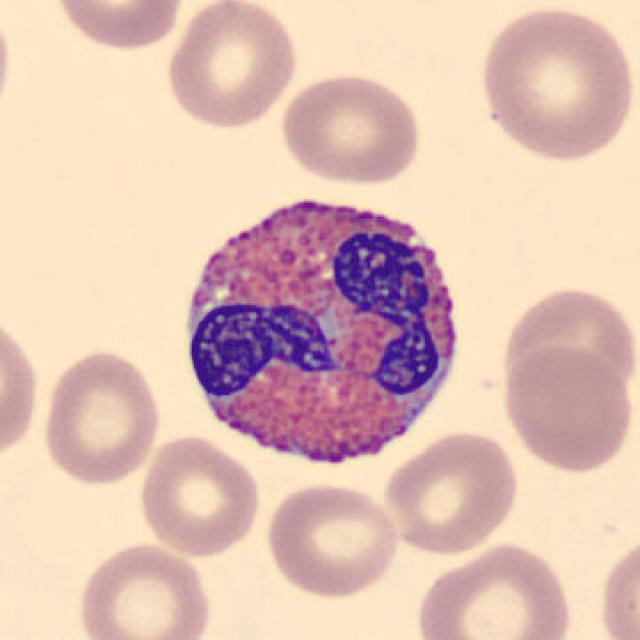Eosinophil: (171, 171, 473, 487)
RBC: (473, 2, 636, 164), (162, 0, 302, 132), (380, 427, 522, 557), (498, 342, 634, 476), (275, 68, 425, 188), (39, 346, 164, 488), (261, 478, 402, 601), (496, 282, 636, 402), (135, 432, 265, 559), (412, 539, 574, 640), (74, 539, 215, 640), (48, 0, 188, 53), (0, 309, 43, 469), (596, 532, 638, 640), (0, 4, 16, 132)
